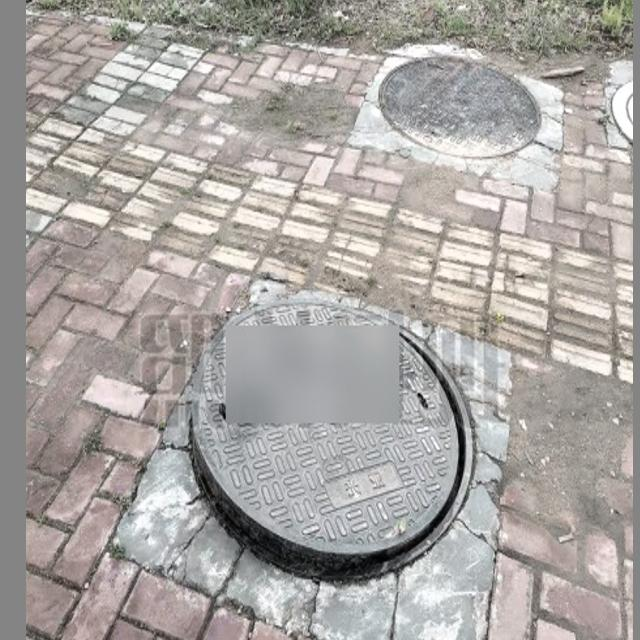good: (379, 57, 542, 156)
uncovered: (187, 298, 474, 582)
